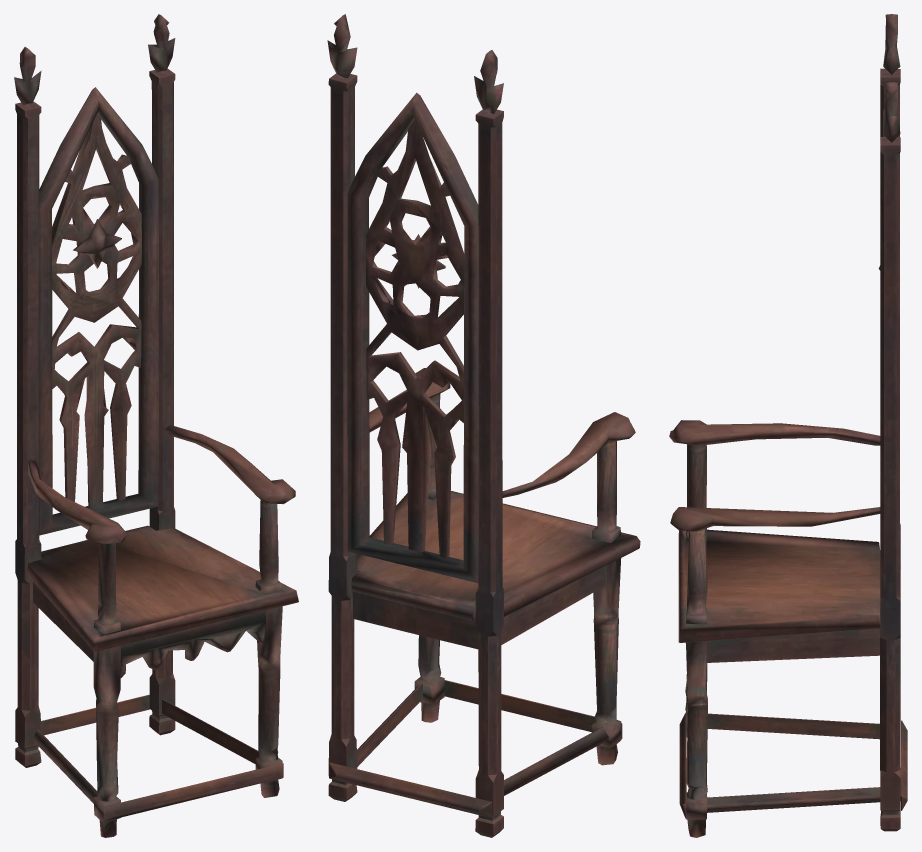
File: WoodenChair_01.glb
3 renders of one model, left to right at view 1: azimuth 30°, elevation 25°; view 2: azimuth 150°, elevation 25°; view 3: azimuth 270°, elevation 25°, orthographic. The views are drawn at different scales.
Visible parts, largest first — view 1: WoodenChair_01; view 2: WoodenChair_01; view 3: WoodenChair_01.
Boxes of the visible parts, x1=… form: WoodenChair_01: x1=14, y1=14, x2=298, y2=837; WoodenChair_01: x1=327, y1=14, x2=640, y2=837; WoodenChair_01: x1=669, y1=14, x2=907, y2=837.
Size of the model in its own units: 0.6845 by 2.27 by 0.6584.
Materials: 1 (1 with a texture image).
